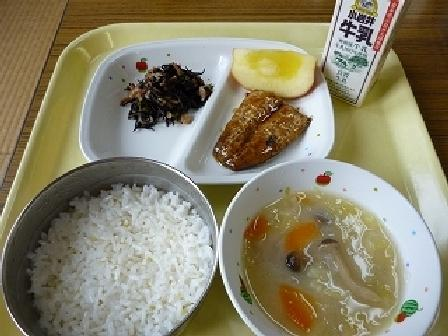Apple: (223, 41, 322, 102)
Fish: (212, 92, 314, 175)
Milk: (320, 0, 416, 102)
Rice: (15, 156, 216, 328)
Soups: (238, 164, 428, 330)
salad with sauce: (125, 60, 213, 137)
